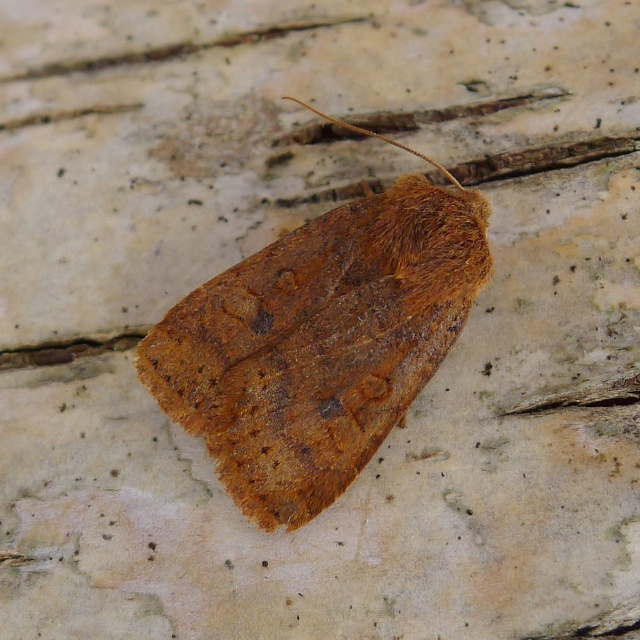Moths and butterflies: (132, 94, 496, 533)
